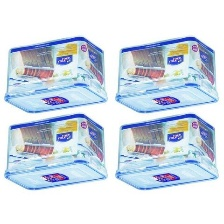plastic_box: (108, 109, 224, 196), (111, 31, 224, 120), (0, 32, 112, 118), (0, 110, 112, 196)
